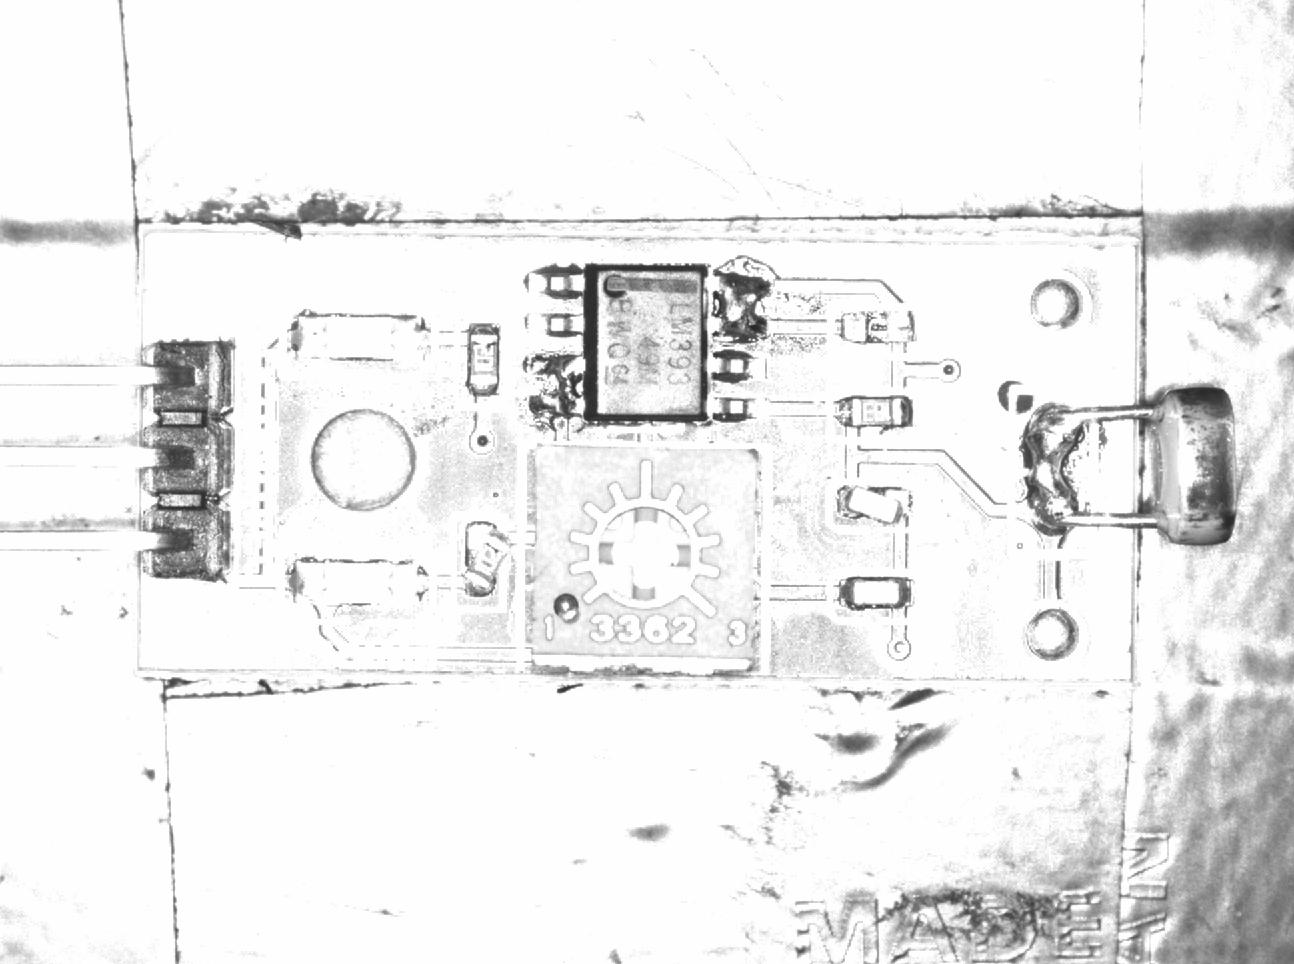bridge: (1009, 385, 1094, 550), (706, 263, 773, 345), (520, 351, 586, 424)
lifted: (454, 514, 511, 608), (829, 478, 918, 531)
miss: (832, 306, 923, 350)
ok: (828, 569, 923, 621), (454, 313, 508, 402), (831, 387, 919, 435)
